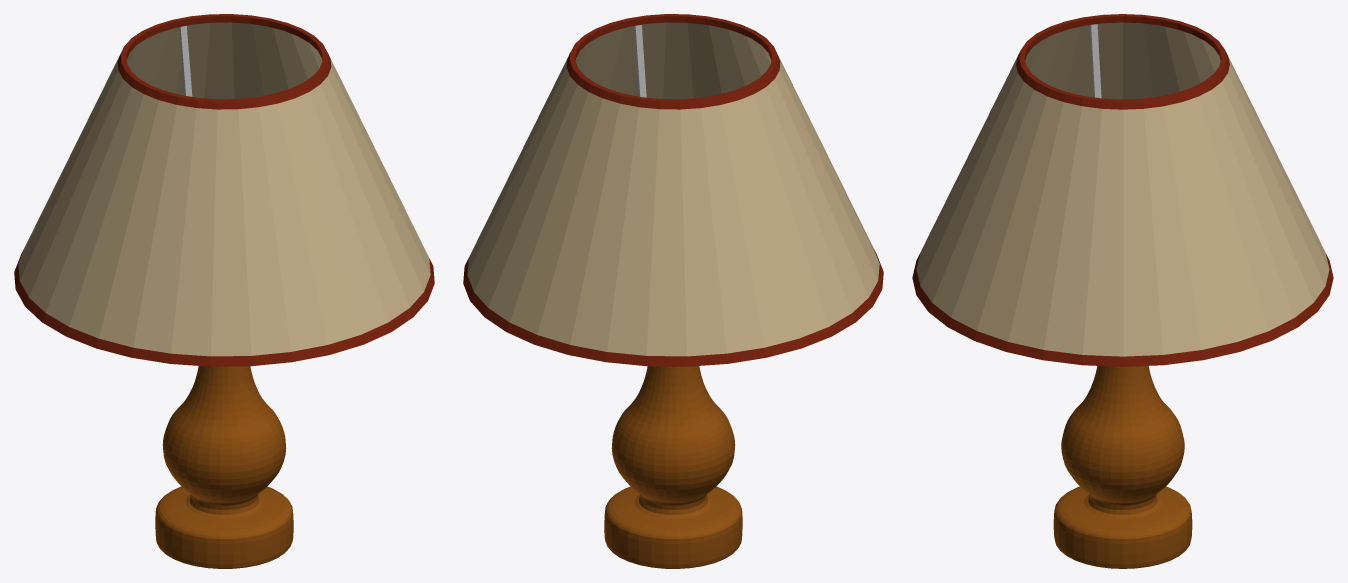
Rendered from little_lamp1.obj.
The picture shows the model from 3 angles, left to right: view 1: azimuth 30°, elevation 25°; view 2: azimuth 150°, elevation 25°; view 3: azimuth 270°, elevation 25°; orthographic projection.
Parts seen in each view (by area): view 1: lamp2_Circle.002, lamp2_sub_Circle.003; view 2: lamp2_Circle.002, lamp2_sub_Circle.003; view 3: lamp2_Circle.002, lamp2_sub_Circle.003.
Part boxes in pixels (bbox=[...]): lamp2_Circle.002: bbox=[14, 14, 434, 366]; lamp2_sub_Circle.003: bbox=[155, 366, 293, 568]; lamp2_Circle.002: bbox=[463, 14, 883, 366]; lamp2_sub_Circle.003: bbox=[604, 366, 742, 568]; lamp2_Circle.002: bbox=[912, 14, 1333, 366]; lamp2_sub_Circle.003: bbox=[1053, 366, 1192, 568].
Bounding box in the file's own units: 0.3315 × 0.419 × 0.3315.
